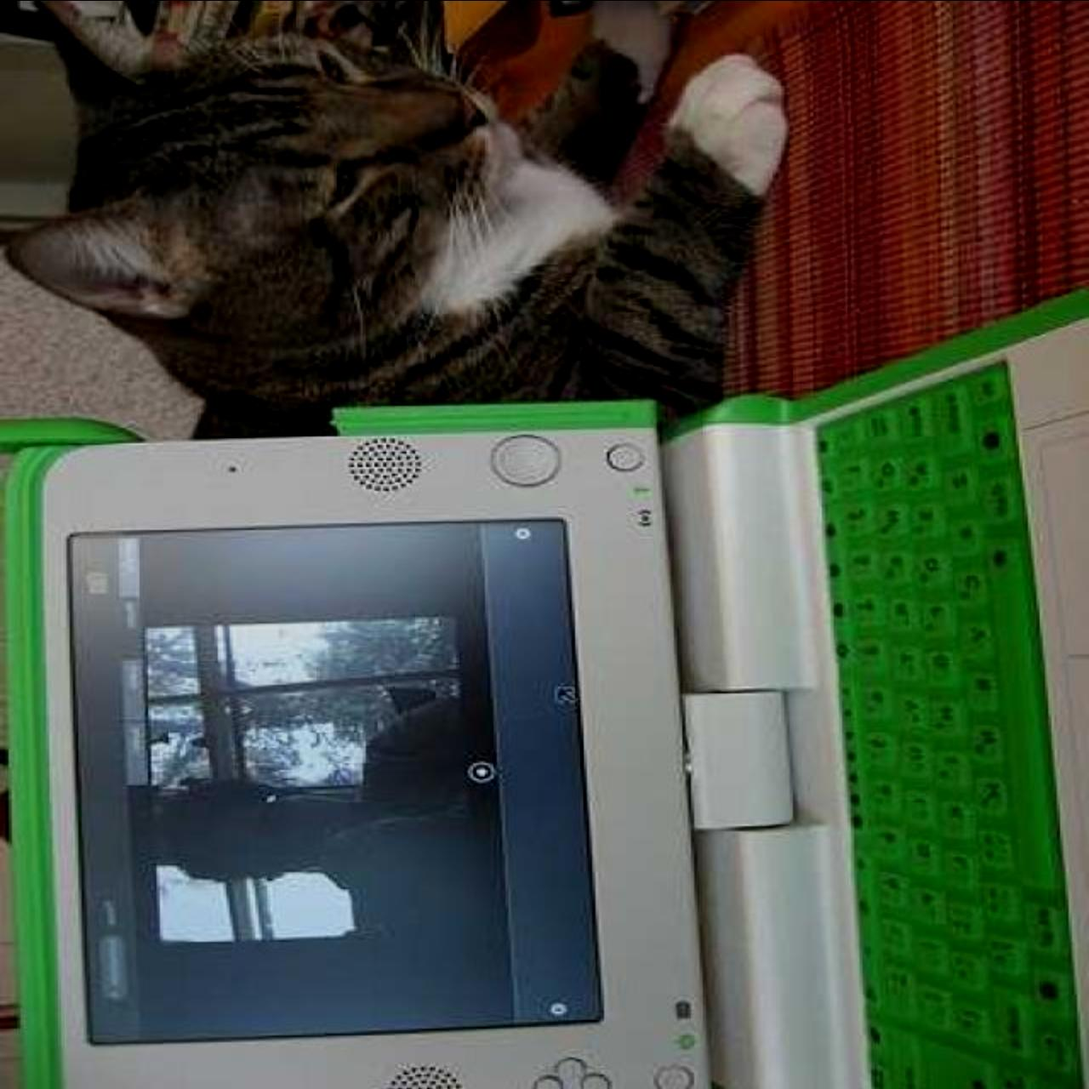laptop: (0, 308, 1089, 1087)
